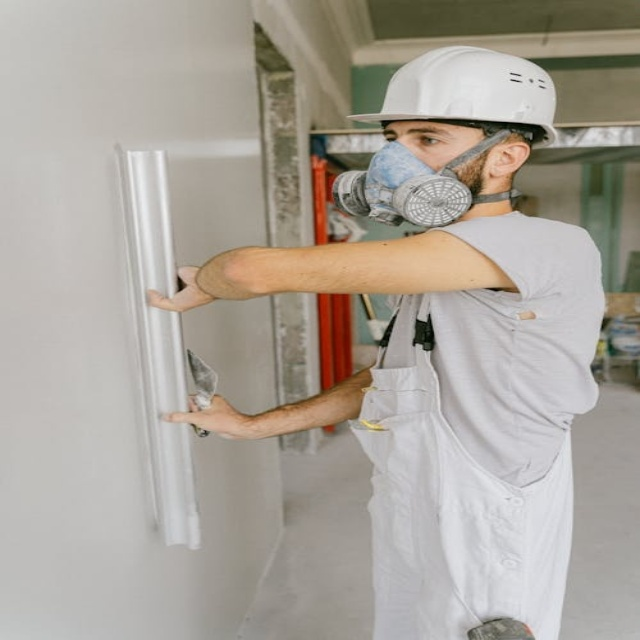Mascara: (324, 135, 474, 224)
Sin_gafas: (374, 120, 470, 148)
Sin_guantes: (158, 391, 253, 441), (144, 264, 218, 313)
